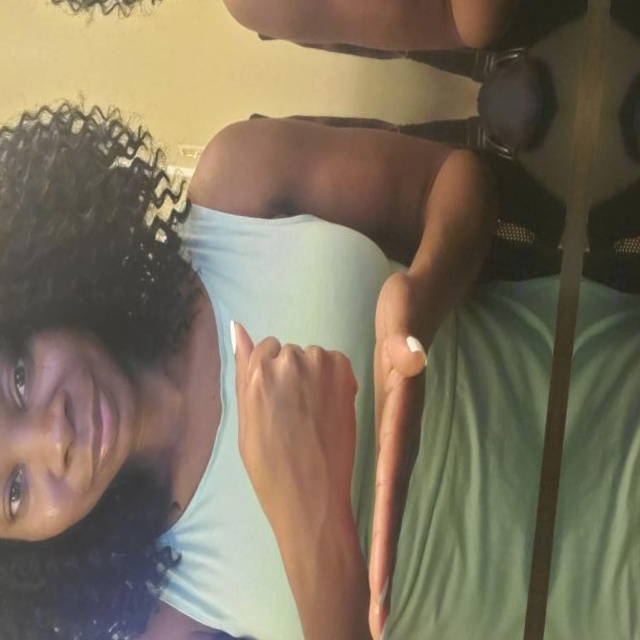Rock: (199, 305, 379, 577)
